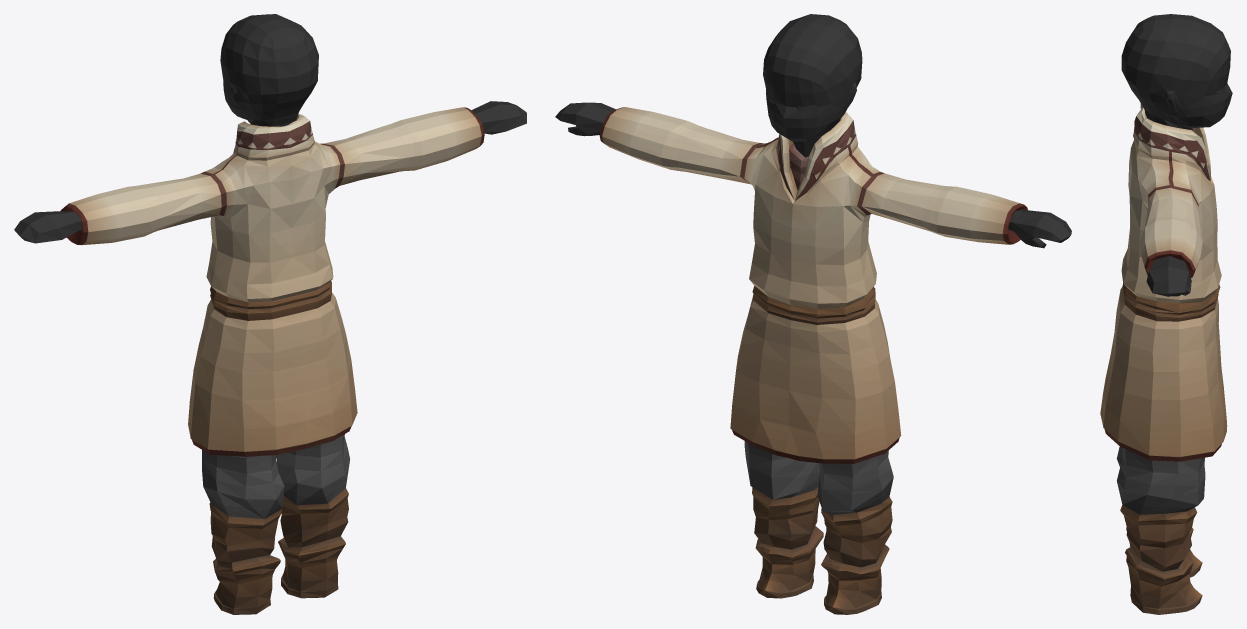
File: CharSkyKid_Body_AP13Tunic_01.glb
The picture shows the model from 3 angles, left to right: view 1: azimuth 30°, elevation 25°; view 2: azimuth 150°, elevation 25°; view 3: azimuth 270°, elevation 25°; orthographic projection.
Visible parts, largest first — view 1: CharSkyKid_Body_AP13Tunic_01; view 2: CharSkyKid_Body_AP13Tunic_01; view 3: CharSkyKid_Body_AP13Tunic_01.
Part boxes in pixels (x1,y1,x2,y2): CharSkyKid_Body_AP13Tunic_01: [14, 14, 526, 614]; CharSkyKid_Body_AP13Tunic_01: [555, 14, 1071, 614]; CharSkyKid_Body_AP13Tunic_01: [1100, 14, 1232, 614].
Bounding box in the file's own units: 13.86 × 14.93 × 3.14.
1 material, 1 textured.
